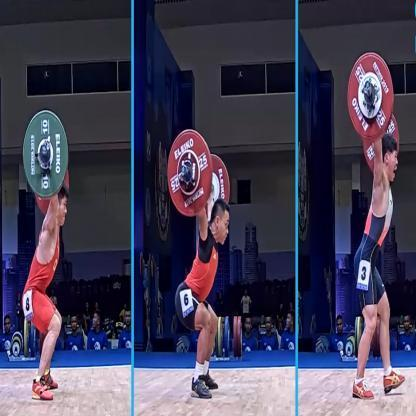barbell: (347, 51, 400, 172), (168, 131, 231, 215), (23, 110, 69, 198)
